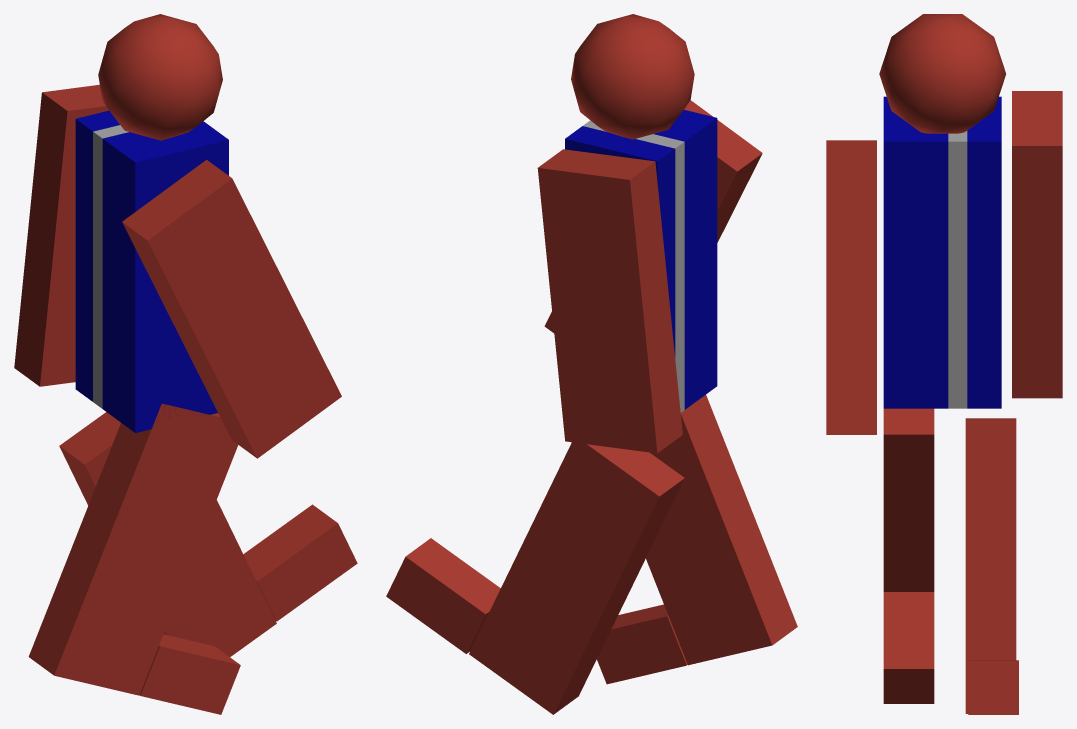
The model's file is player_000055.obj.
The picture shows the model from 3 angles, left to right: view 1: azimuth 30°, elevation 25°; view 2: azimuth 150°, elevation 25°; view 3: azimuth 270°, elevation 25°; orthographic projection.
Visible parts, largest first — view 1: Cube.001, Cube.005, Cube, Cube.006, Icosphere, Cube.002, Cube.004, Cube.003; view 2: Cube.006, Cube.002, Cube.001, Cube, Icosphere, Cube.004, Cube.003, Cube.005; view 3: Cube, Cube.006, Cube.005, Cube.002, Icosphere, Cube.001, Cube.003, Cube.004.
Part boxes in pixels (x1,y1,x2,y2): Cube.001: (28, 403, 237, 695); Cube.005: (122, 159, 341, 458); Cube: (75, 110, 228, 432); Cube.006: (14, 84, 108, 386); Icosphere: (98, 14, 222, 140); Cube.002: (59, 412, 276, 656); Cube.004: (243, 504, 357, 621); Cube.003: (139, 634, 240, 714); Cube.006: (537, 149, 682, 453); Cube.002: (469, 442, 684, 714); Cube.001: (646, 395, 797, 665); Cube: (565, 110, 717, 412); Icosphere: (571, 14, 694, 139); Cube.004: (386, 538, 500, 653); Cube.003: (597, 604, 687, 684); Cube.005: (544, 100, 762, 333); Cube: (883, 96, 1001, 408); Cube.006: (1012, 91, 1062, 398); Cube.005: (826, 140, 876, 434); Cube.002: (965, 418, 1016, 713); Icosphere: (879, 14, 1005, 133); Cube.001: (883, 408, 934, 591); Cube.003: (883, 592, 934, 703); Cube.004: (968, 660, 1018, 714).
Size of the model in its own units: 1.53 by 2.88 by 0.9137.
